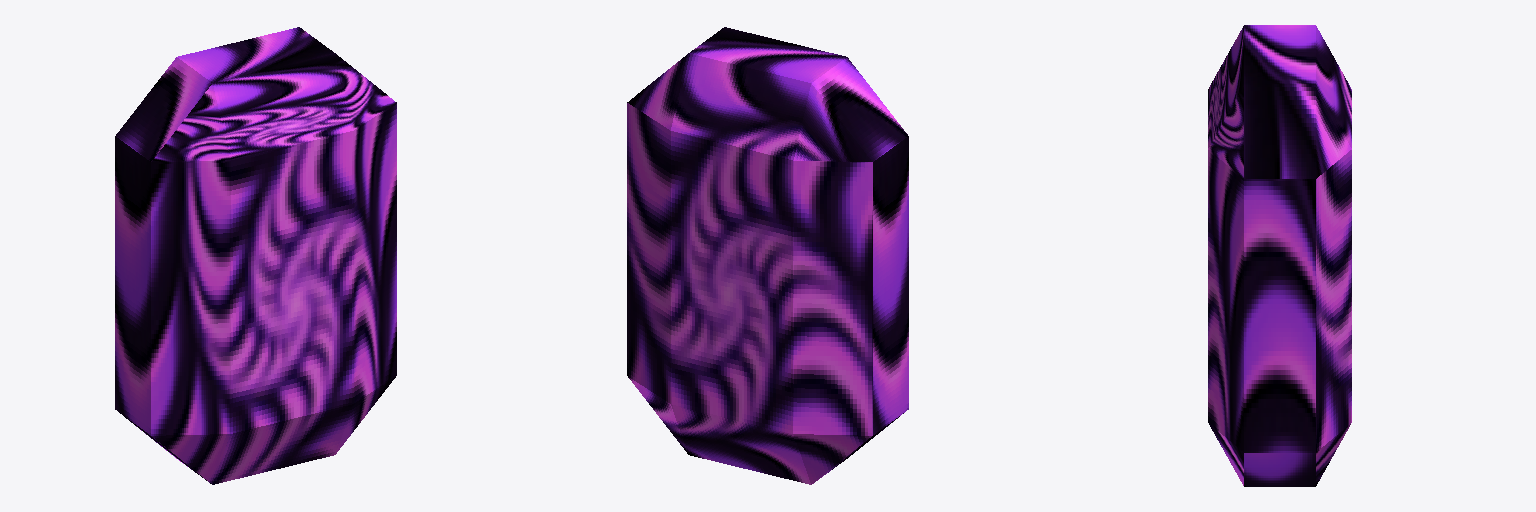
3 views of the same model, side by side, from view 1: azimuth 30°, elevation 25°; view 2: azimuth 150°, elevation 25°; view 3: azimuth 270°, elevation 25° (orthographic).
Visible parts, largest first — view 1: pCube1; view 2: pCube1; view 3: pCube1.
Boxes of the visible parts, x1,y1,x2,y2 form: pCube1: [115, 27, 396, 484]; pCube1: [627, 27, 908, 484]; pCube1: [1208, 25, 1351, 486].
Size of the model in its own units: 1 by 1.56 by 0.5076.
1 materials, 1 textured.